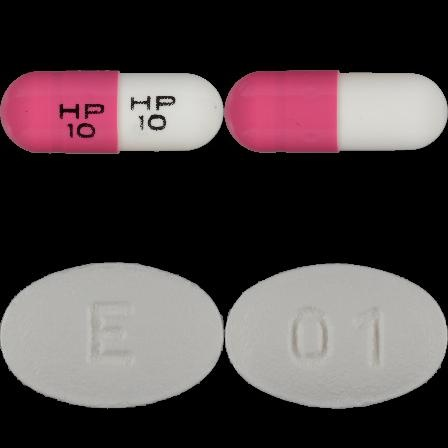52125-438: (0, 0, 224, 224)
